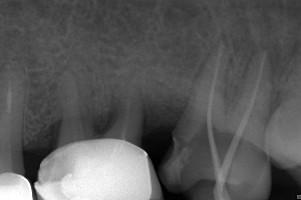Endo-Periodontal Lesion: (94, 98, 119, 134)
